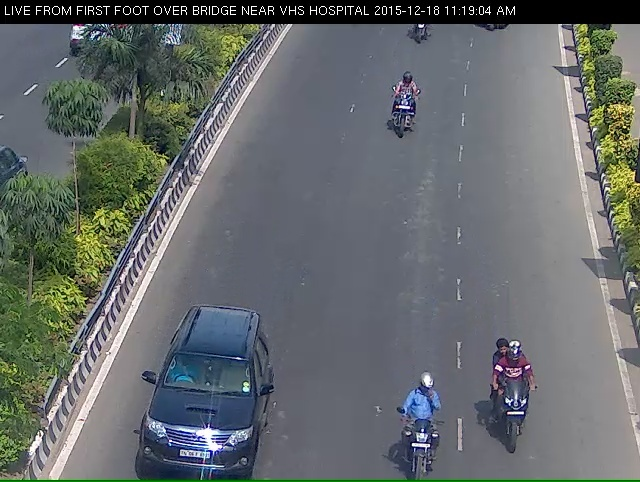Car: (127, 323, 266, 480)
Person: (493, 371, 540, 478), (394, 400, 448, 476), (382, 83, 418, 152)
